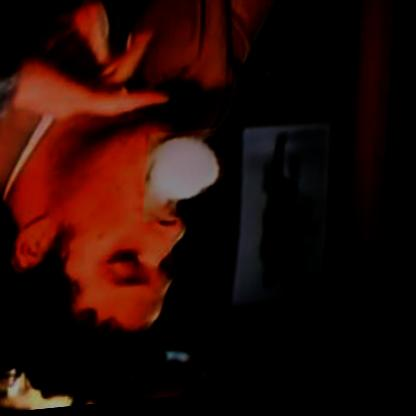smoke: (146, 131, 238, 226)
